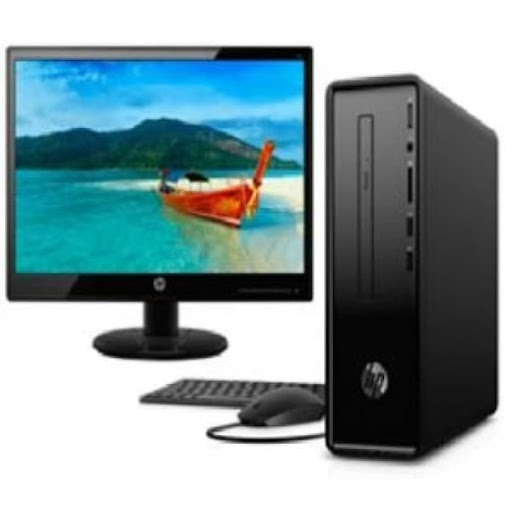hp-monitor-19ka: (6, 41, 313, 363)
